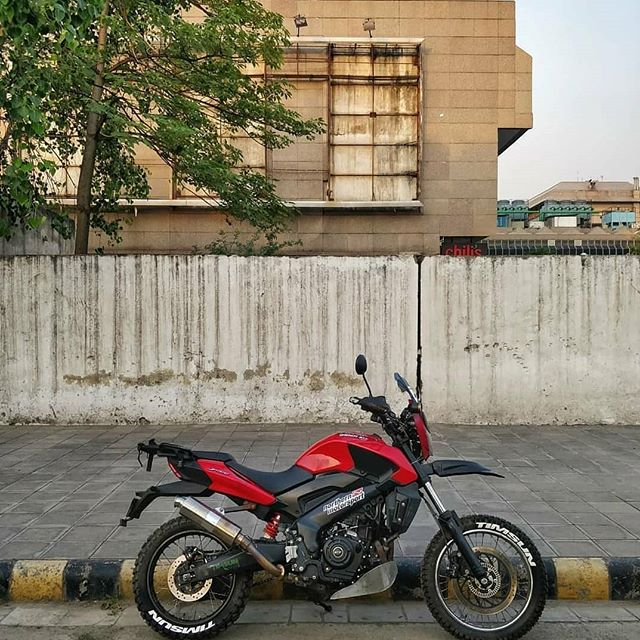building: (32, 1, 535, 249), (500, 176, 636, 259)
motorcycle: (141, 401, 544, 634)
tree: (1, 1, 301, 272)
